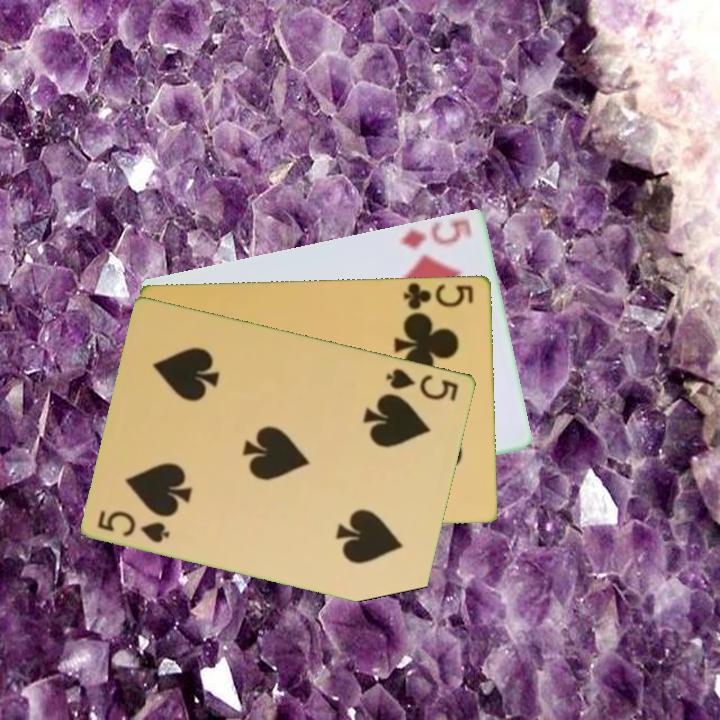5c: (400, 280, 477, 312)
5d: (396, 215, 472, 253)
5s: (94, 506, 174, 546), (383, 364, 462, 404)
